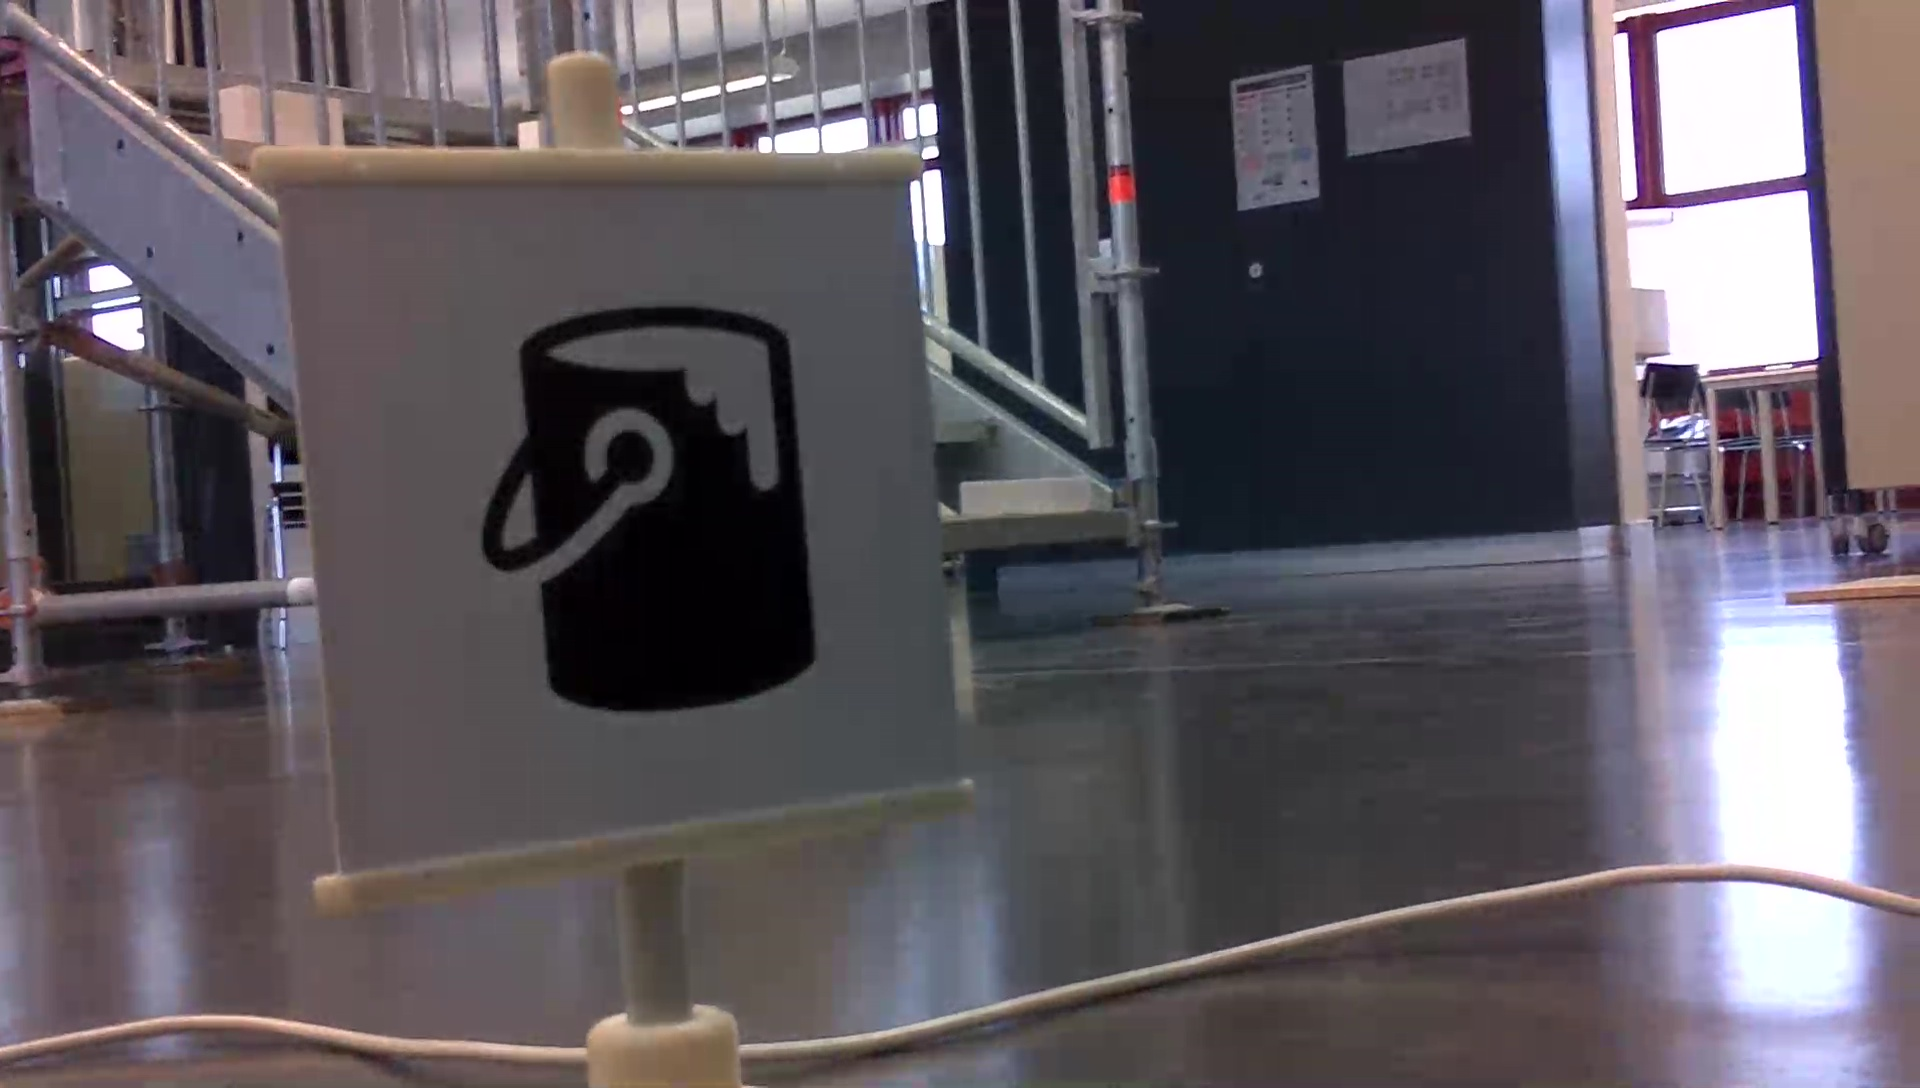brick: (963, 479, 1092, 514)
bucket: (464, 291, 829, 723)
